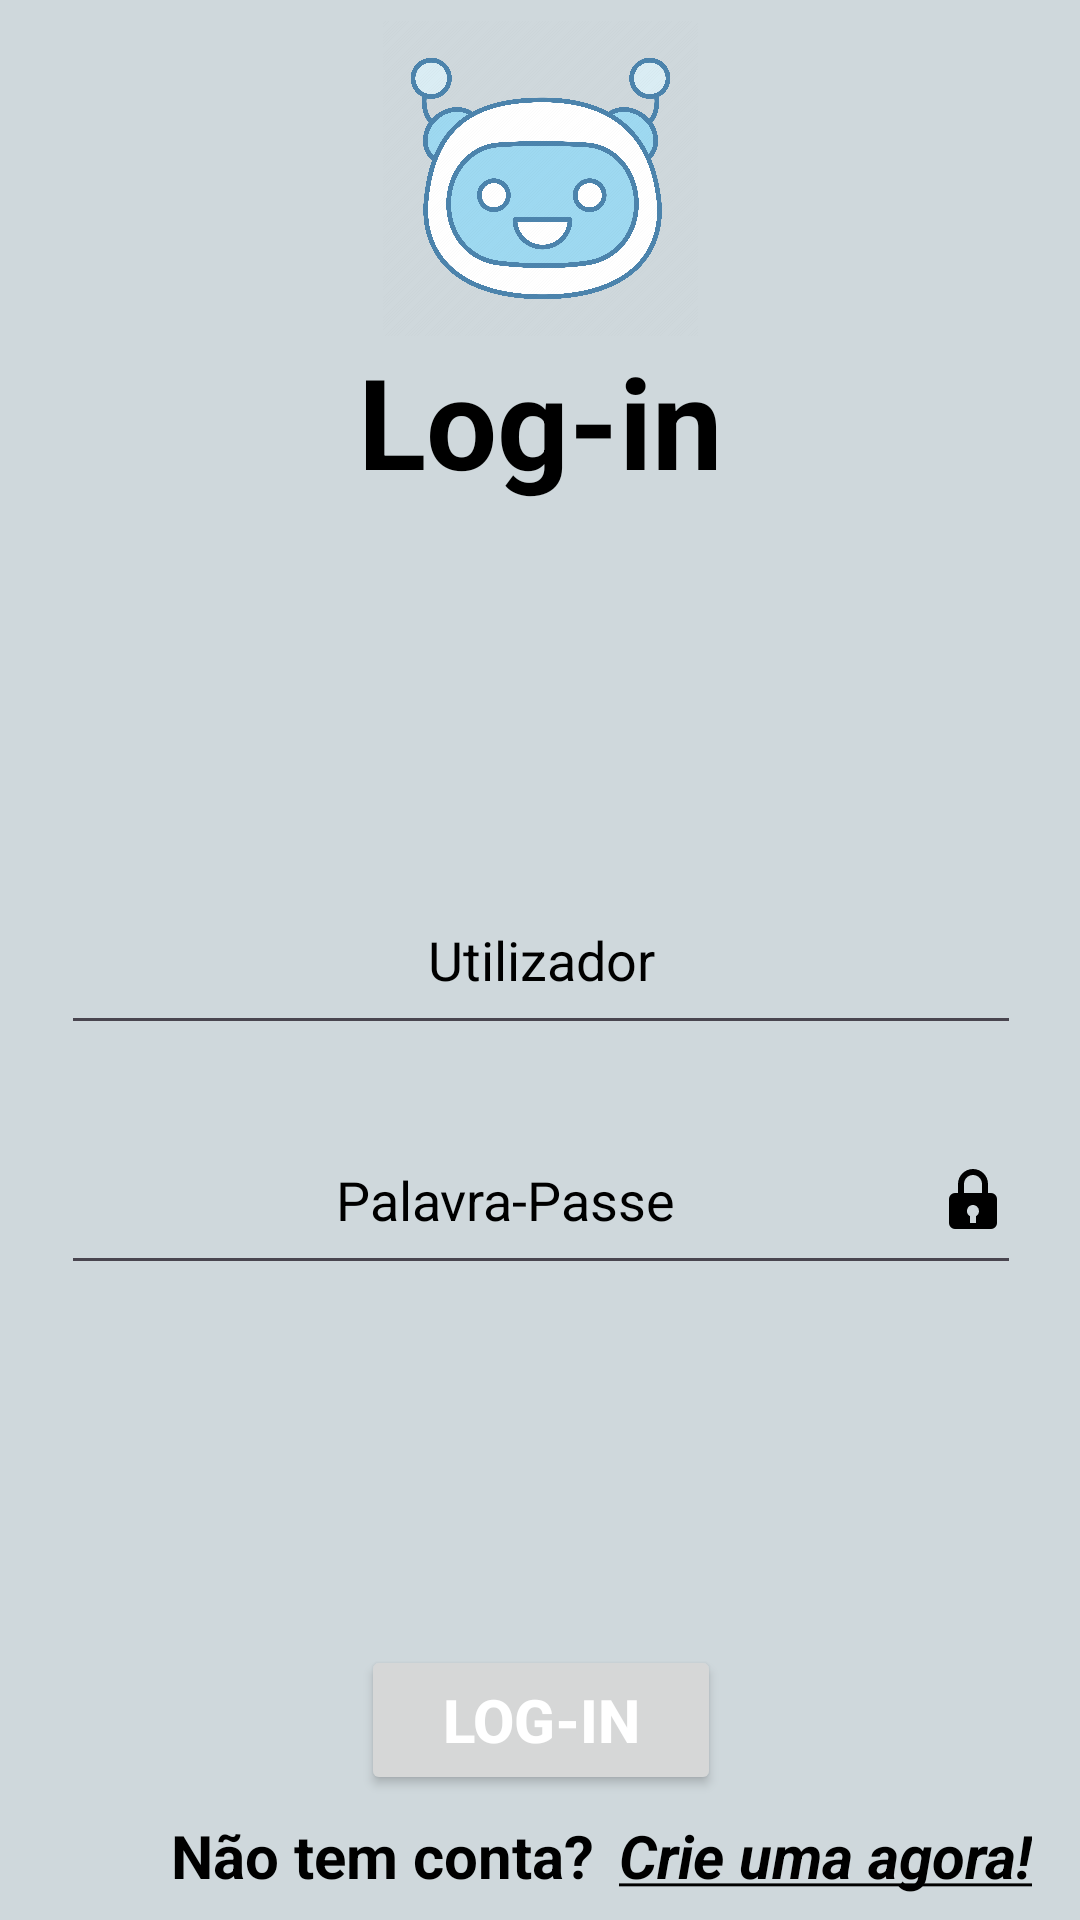

Screen size 1080 × 1920. Icon name, then its box in pixels as rect(x1, y1, x2, y2):
chatbot: rect(411, 58, 670, 299)
